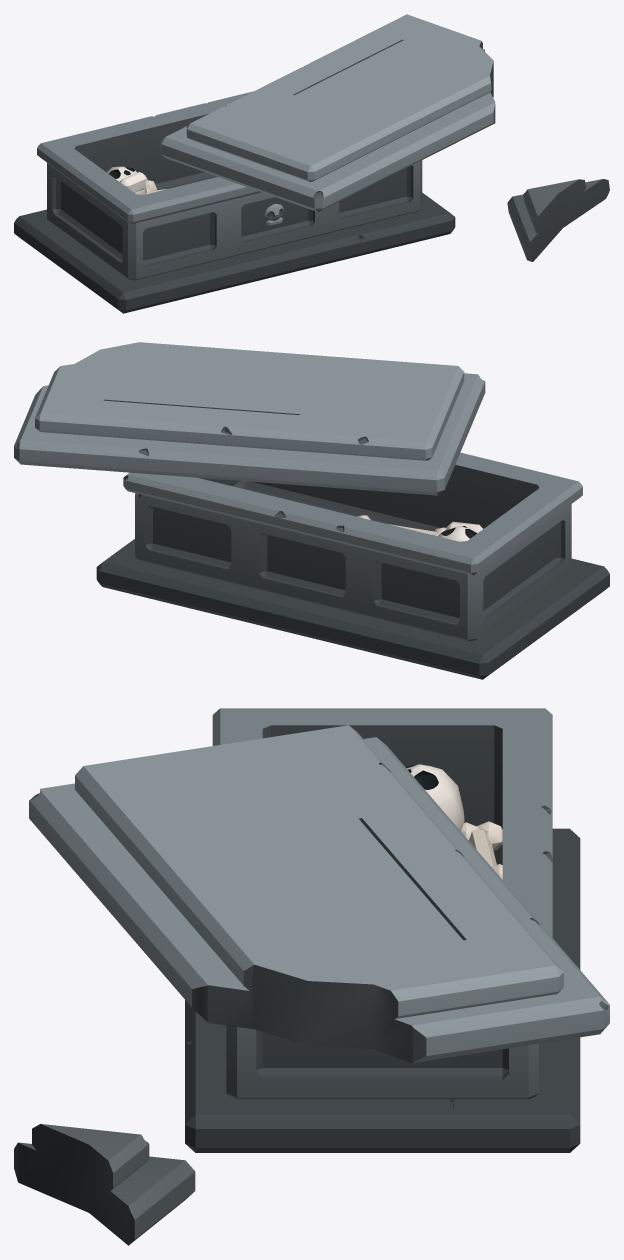
Rendered from sarcophagus_open.glb.
3 views of the same model, one above another, from view 1: azimuth 30°, elevation 25°; view 2: azimuth 150°, elevation 25°; view 3: azimuth 270°, elevation 25° (orthographic). The views are drawn at different scales.
Parts seen in each view (by area): view 1: sarcophagus_open; view 2: sarcophagus_open; view 3: sarcophagus_open.
Boxes of the visible parts, x1,y1,x2,y2 form: sarcophagus_open: (14, 14, 609, 313); sarcophagus_open: (14, 342, 609, 679); sarcophagus_open: (14, 708, 609, 1245).
Bounding box in the file's own units: 4.67 × 1.25 × 2.83.
1 material, 1 textured.
